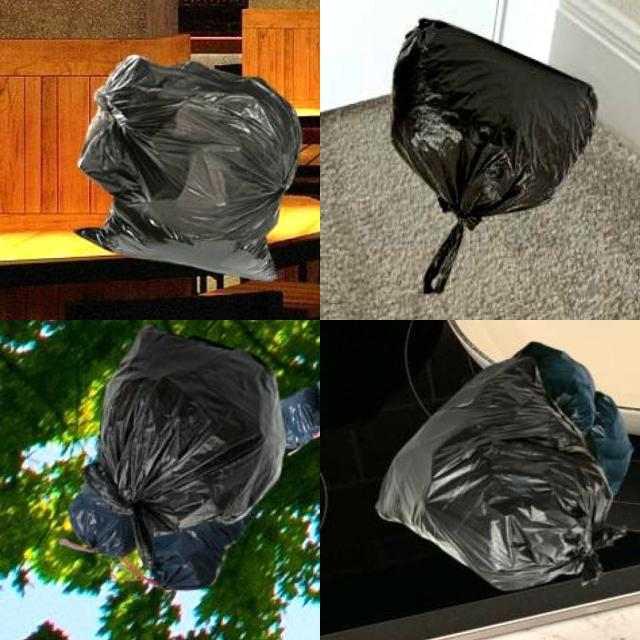Single-layer Plastic: (376, 358, 625, 591), (69, 326, 285, 590), (391, 19, 598, 294), (79, 55, 301, 281)
